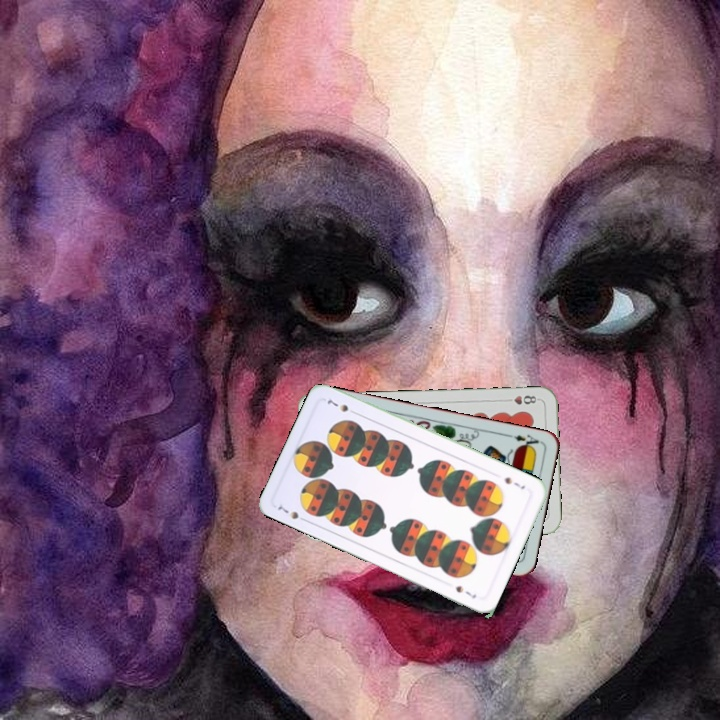EA: (503, 430, 544, 452)
H8: (501, 391, 542, 407)
S7: (274, 502, 310, 525), (500, 473, 528, 492)
